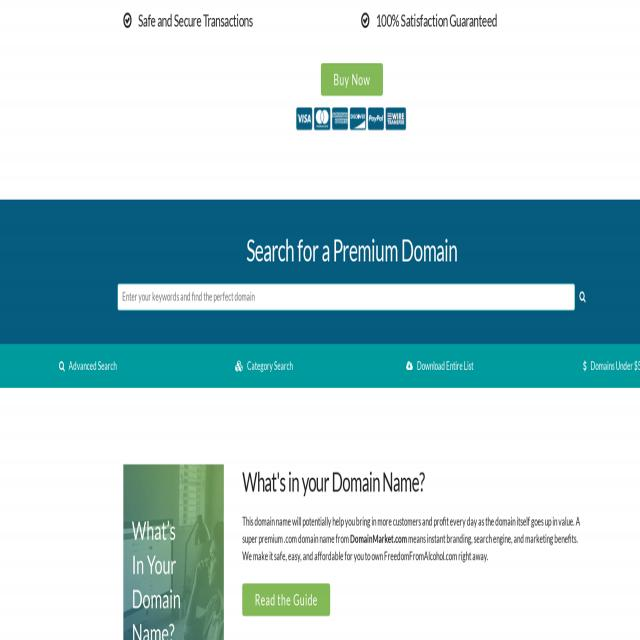button: (124, 464, 224, 640), (242, 583, 330, 617), (321, 63, 383, 96), (384, 103, 407, 134), (313, 103, 332, 134), (296, 103, 314, 134), (331, 103, 349, 134), (349, 103, 367, 134), (367, 103, 385, 134), (578, 284, 588, 311)
field: (118, 284, 575, 310)
